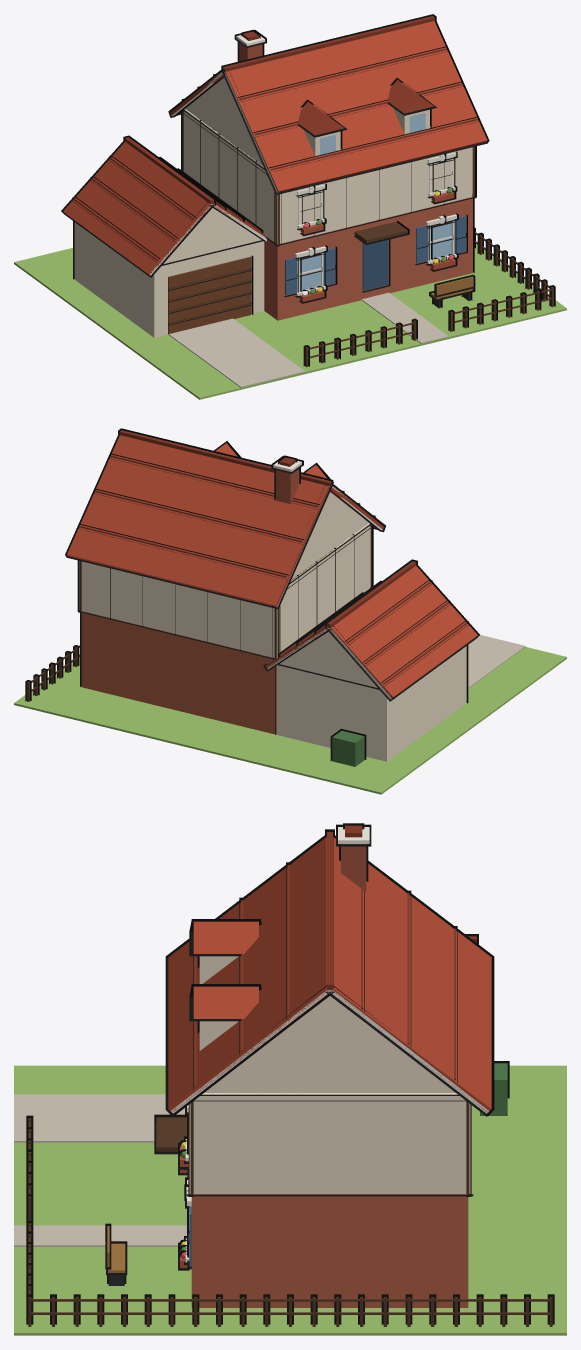
Rendered from Konut_konak_bahceli.fbx.
The picture shows the model from 3 angles, top to bottom: view 1: azimuth 30°, elevation 25°; view 2: azimuth 150°, elevation 25°; view 3: azimuth 270°, elevation 25°; orthographic projection. The views are drawn at different scales.
Parts seen in each view (by area): view 1: Konut_konak_bahceli; view 2: Konut_konak_bahceli; view 3: Konut_konak_bahceli.
Part boxes in pixels (left/top/right/bottom): Konut_konak_bahceli: left=14, top=14, right=566, bottom=399; Konut_konak_bahceli: left=14, top=428, right=566, bottom=794; Konut_konak_bahceli: left=14, top=823, right=566, bottom=1335.
Size of the model in its own units: 16 by 10.09 by 14.
